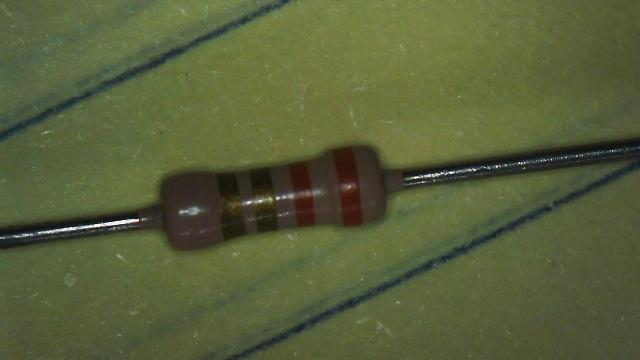brown: (290, 162, 314, 226)
gold: (218, 172, 244, 238), (251, 168, 276, 232)
orange: (334, 147, 362, 226)
resistor: (134, 124, 405, 265)
